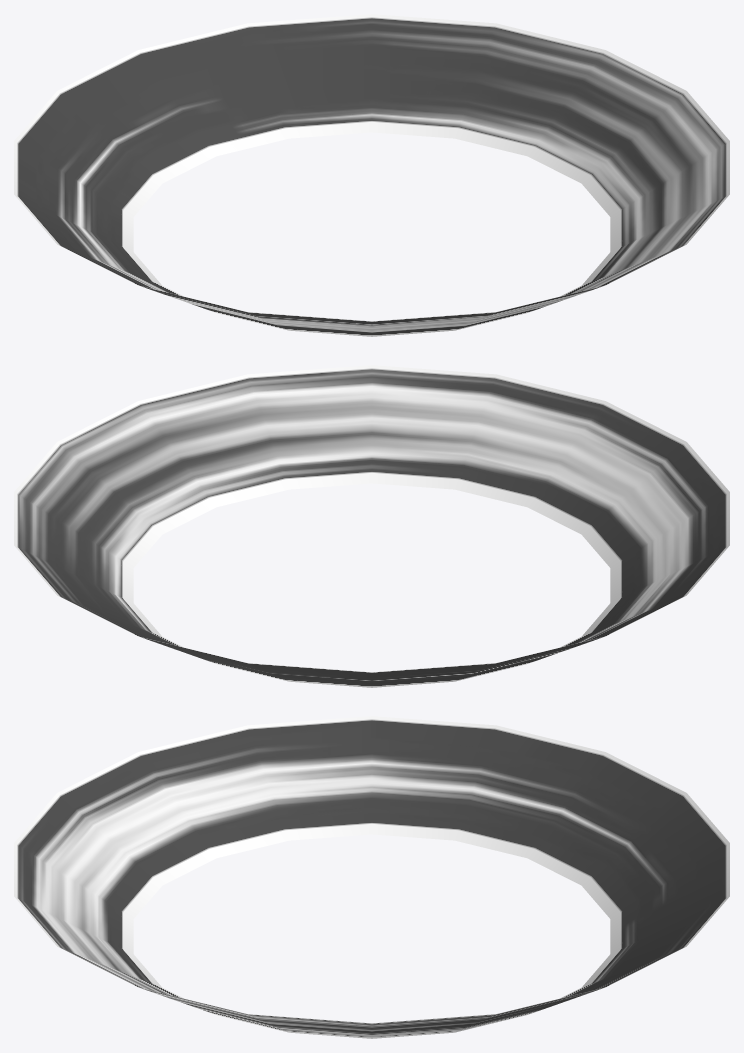
Rendered from huanfeng.FBX.
3 renders of one model, top to bottom at view 1: azimuth 30°, elevation 25°; view 2: azimuth 150°, elevation 25°; view 3: azimuth 270°, elevation 25°, orthographic.
Parts seen in each view (by area): view 1: Cylinder01; view 2: Cylinder01; view 3: Cylinder01.
Part boxes in pixels (x1=…): Cylinder01: x1=14, y1=14, x2=729, y2=336; Cylinder01: x1=14, y1=365, x2=729, y2=687; Cylinder01: x1=14, y1=716, x2=729, y2=1038.
Size of the model in its own units: 56.76 by 55.9 by 5.77.
